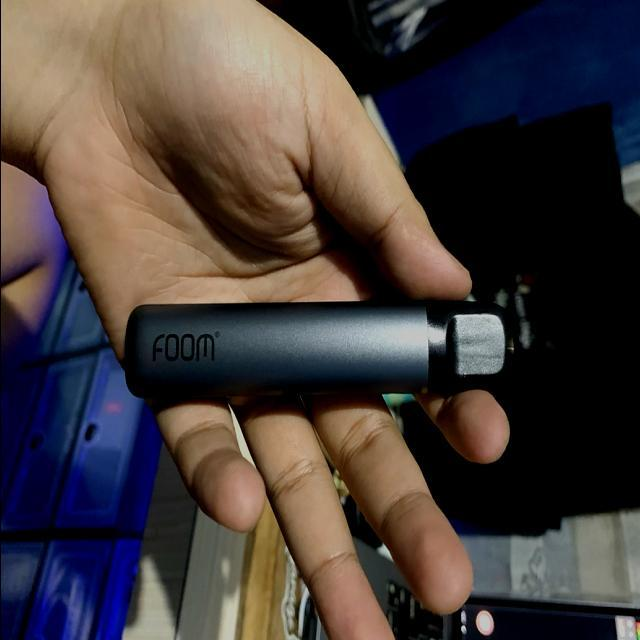Hazard: (122, 300, 520, 398)
